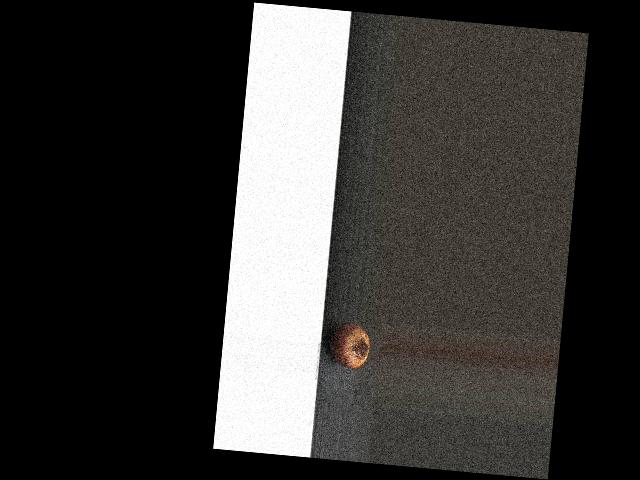beet: (328, 320, 371, 369)
